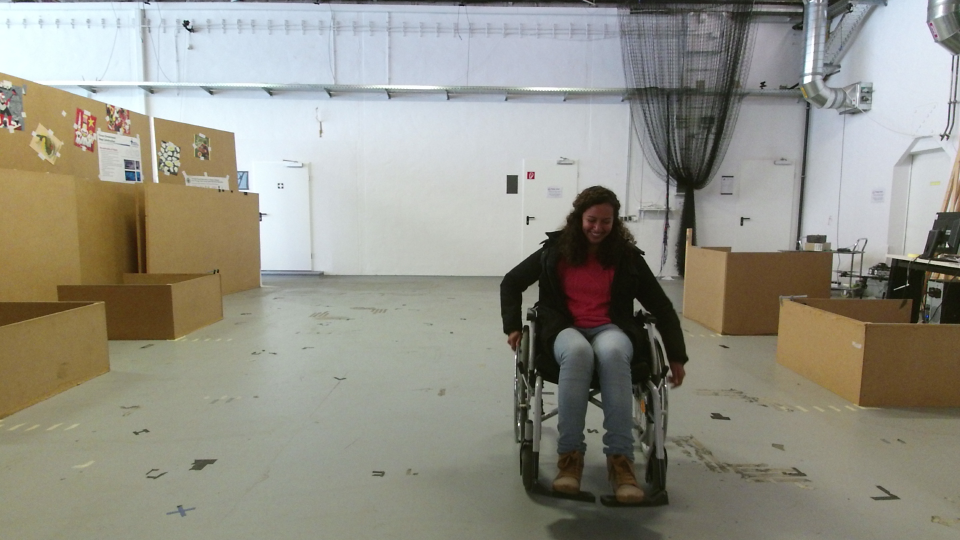wheelchair: (495, 181, 686, 515)
